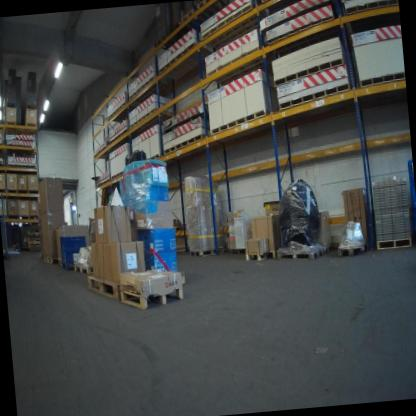pallet: (199, 0, 275, 60), (274, 78, 358, 118), (205, 45, 275, 91), (156, 38, 214, 89), (118, 276, 186, 315), (206, 107, 281, 140), (121, 73, 182, 109), (86, 267, 132, 312), (269, 54, 348, 80), (127, 102, 180, 136), (352, 65, 405, 96), (164, 131, 212, 165), (274, 240, 328, 264), (346, 0, 398, 23), (183, 242, 225, 266), (375, 232, 413, 256), (335, 240, 367, 262), (139, 151, 166, 172), (108, 126, 132, 149), (243, 245, 268, 267), (174, 8, 198, 30), (72, 260, 98, 280), (109, 166, 133, 187), (264, 245, 287, 265), (227, 240, 254, 257), (5, 141, 37, 155), (27, 231, 42, 255), (40, 251, 58, 269), (8, 162, 37, 172), (194, 1, 215, 12), (263, 0, 307, 4), (20, 211, 32, 224), (55, 256, 65, 271), (9, 213, 21, 224), (31, 214, 39, 223)
